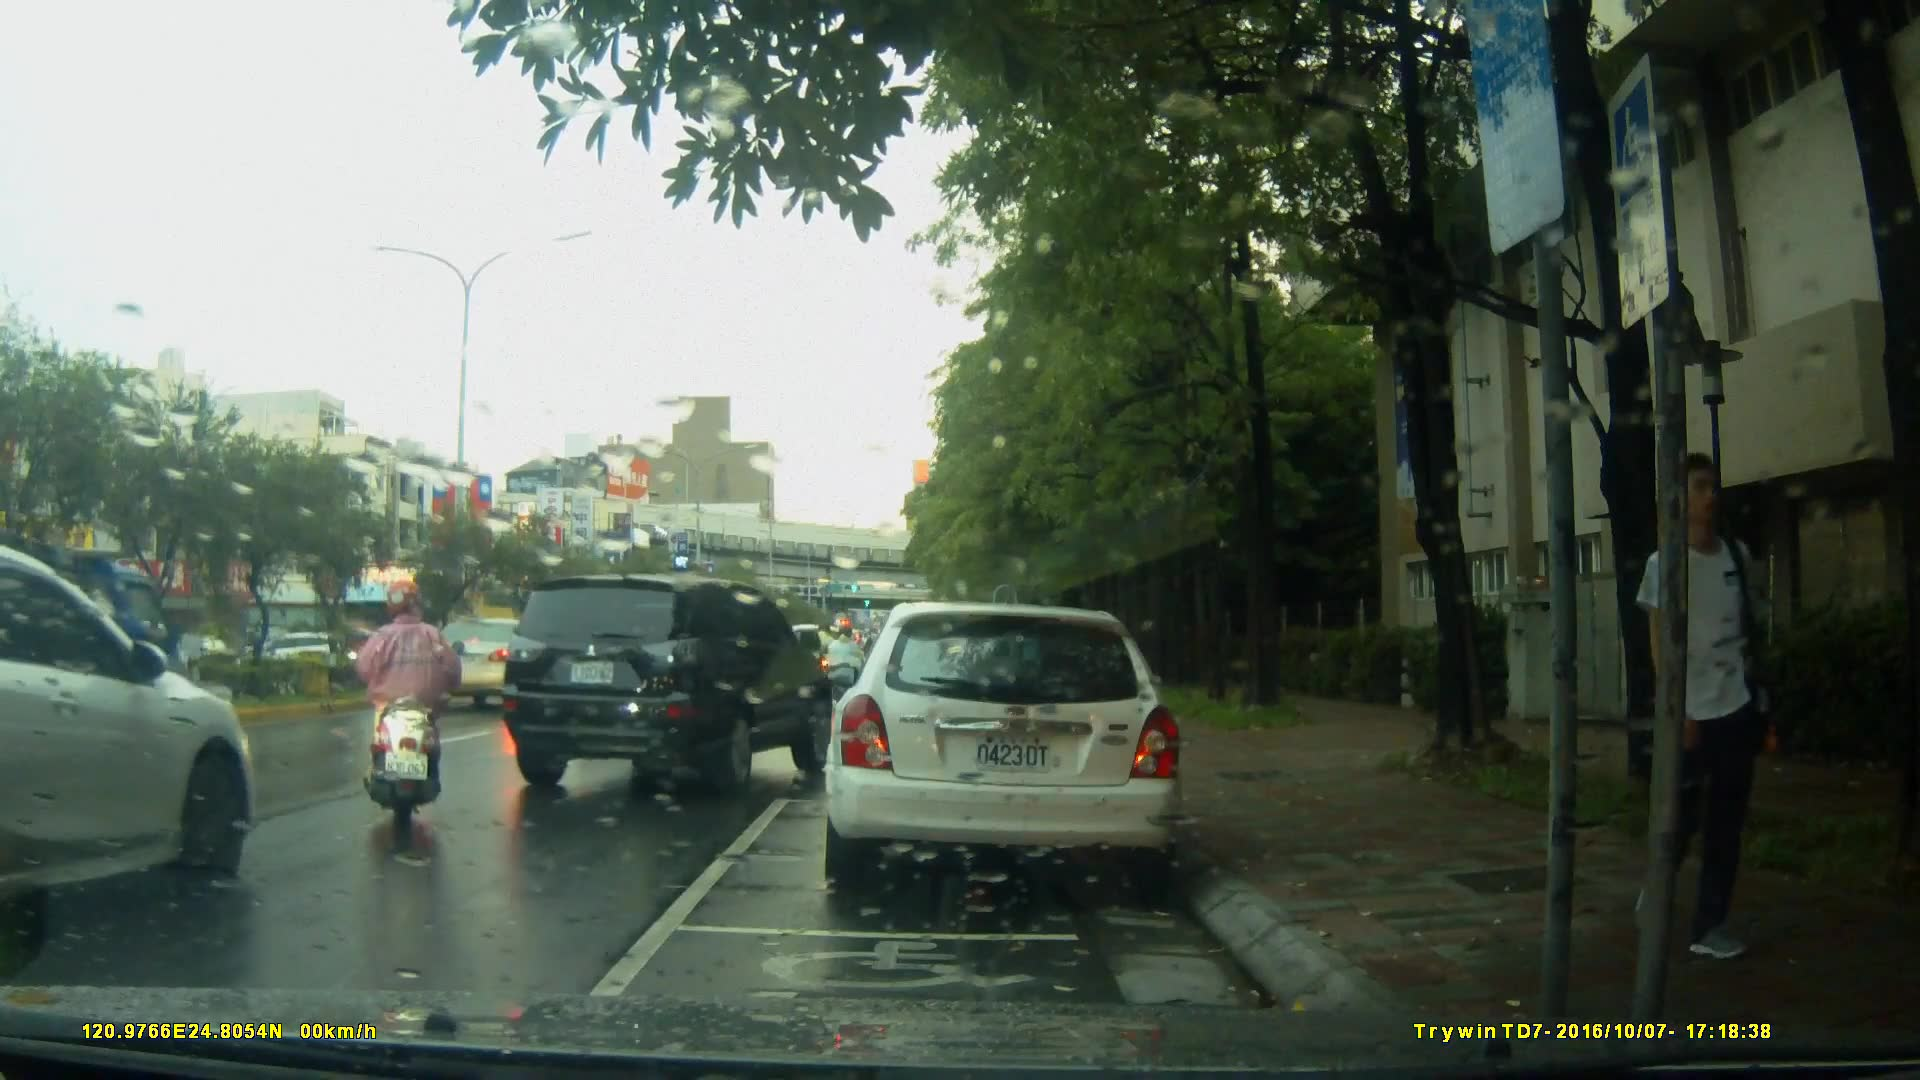pedestrian: (1639, 442, 1782, 975)
rider: (363, 574, 463, 820), (821, 623, 871, 717)
vehicle: (2, 529, 257, 963), (820, 602, 1188, 898), (497, 571, 836, 792)
